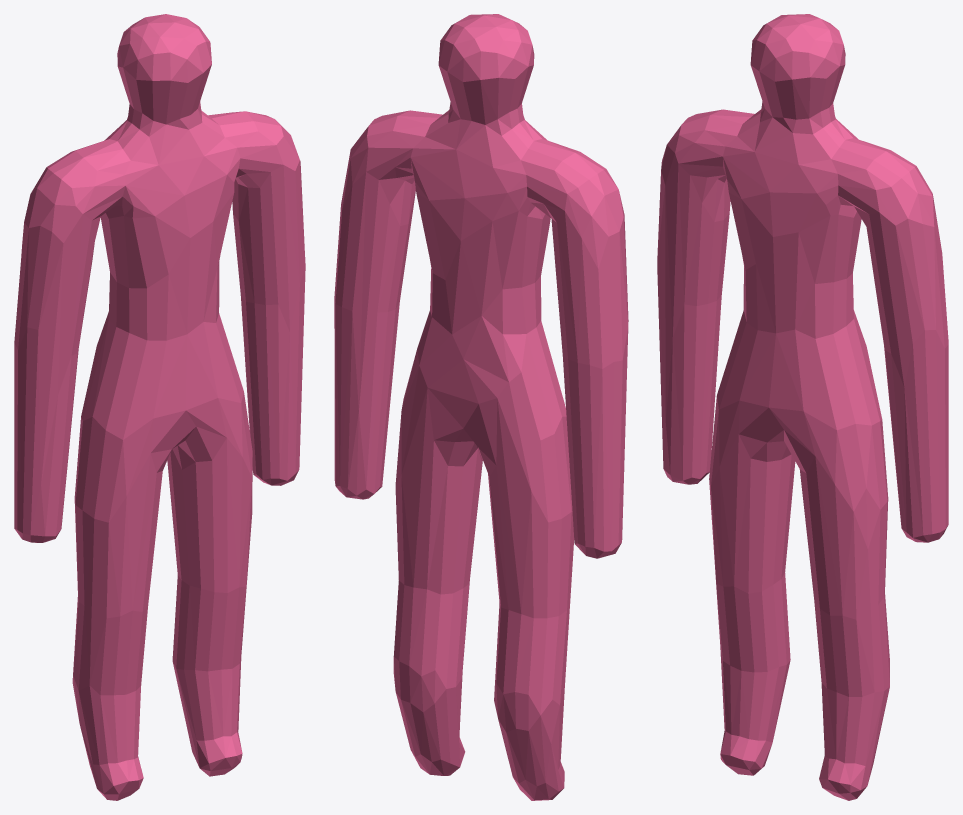
Rendered from personaje_v0.glb.
The picture shows the model from 3 angles, left to right: view 1: azimuth 30°, elevation 25°; view 2: azimuth 150°, elevation 25°; view 3: azimuth 330°, elevation 25°; orthographic projection.
Visible parts, largest first — view 1: PersonajeLowPoly; view 2: PersonajeLowPoly; view 3: PersonajeLowPoly.
Part boxes in pixels (x1=…): PersonajeLowPoly: x1=14, y1=14, x2=305, y2=800; PersonajeLowPoly: x1=334, y1=14, x2=628, y2=800; PersonajeLowPoly: x1=657, y1=14, x2=948, y2=800.
Bounding box in the file's own units: 0.6474 × 1.68 × 0.2022.
